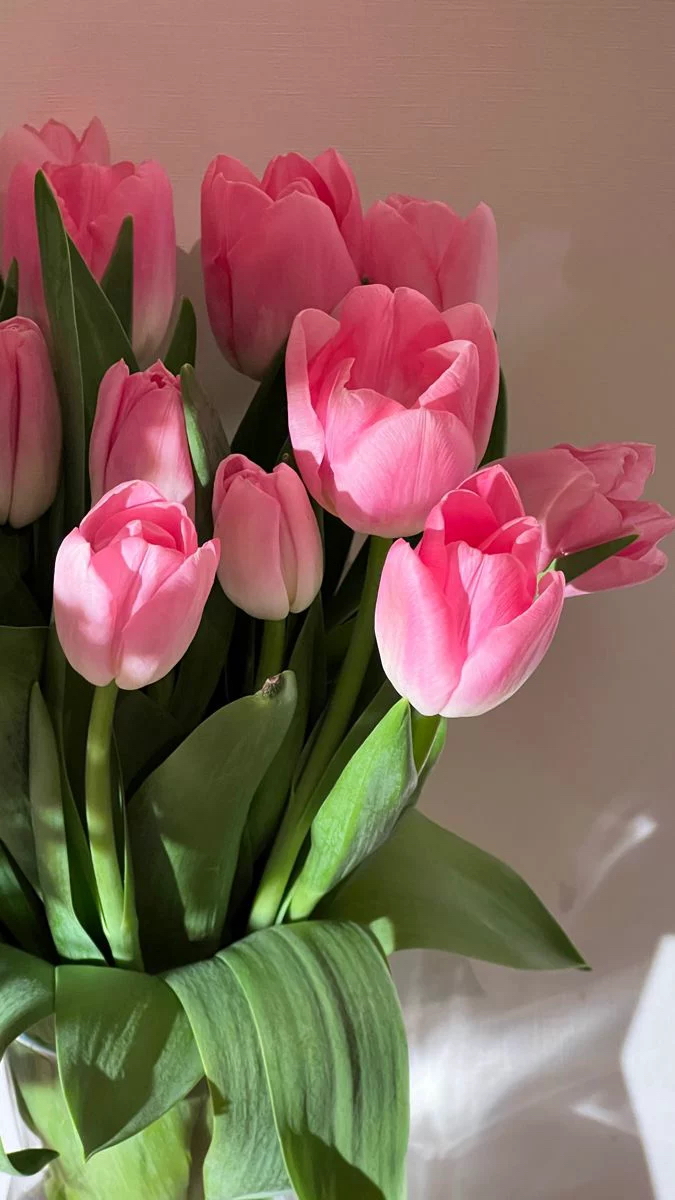tulip: (281, 278, 504, 544), (366, 459, 569, 722), (190, 140, 367, 383), (6, 150, 184, 374), (48, 473, 224, 697), (493, 426, 674, 598), (82, 353, 205, 545), (197, 450, 327, 625), (364, 185, 505, 344), (0, 311, 69, 533)
